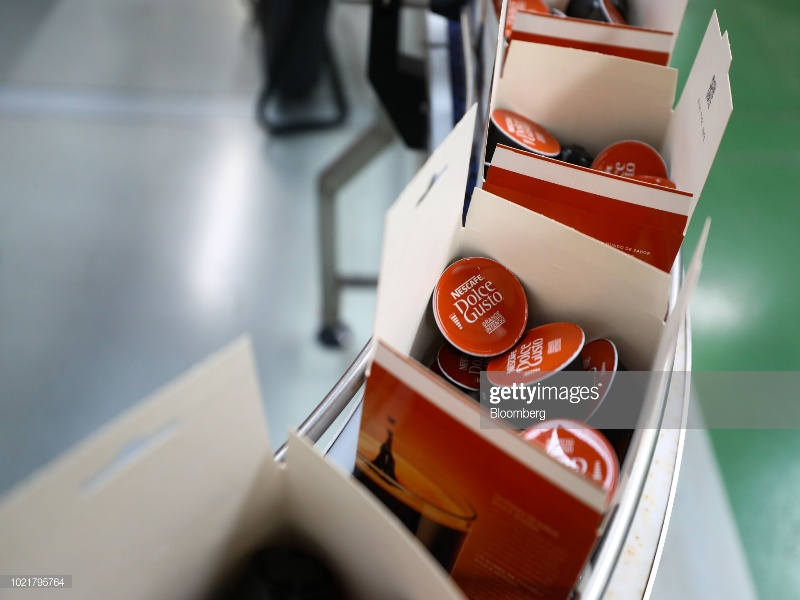nescafe-dolce: (433, 262, 528, 354)
